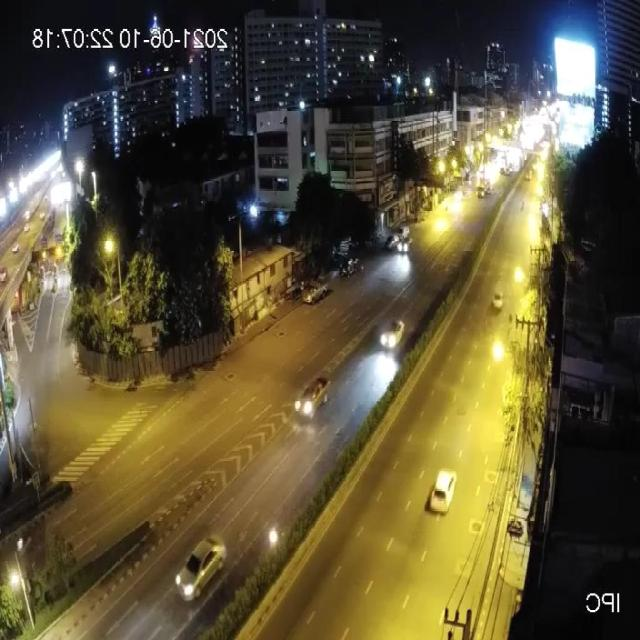Car: (173, 531, 230, 608), (294, 377, 332, 419), (430, 468, 458, 514), (382, 320, 404, 351), (304, 282, 328, 304), (397, 239, 412, 254), (492, 292, 503, 312)
